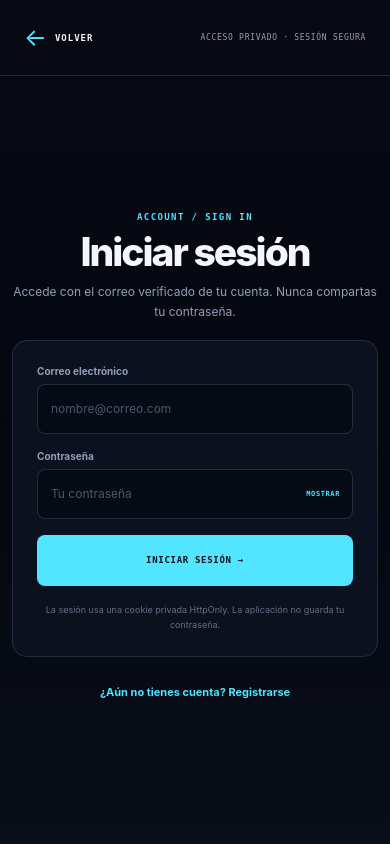
Scenario: LoginForm › muestra un error genérico de credenciales
Type "nadie@example.com" into the field named "Correo electrónico" at (195, 408), box top-left (37, 384), bottom-right (353, 434)
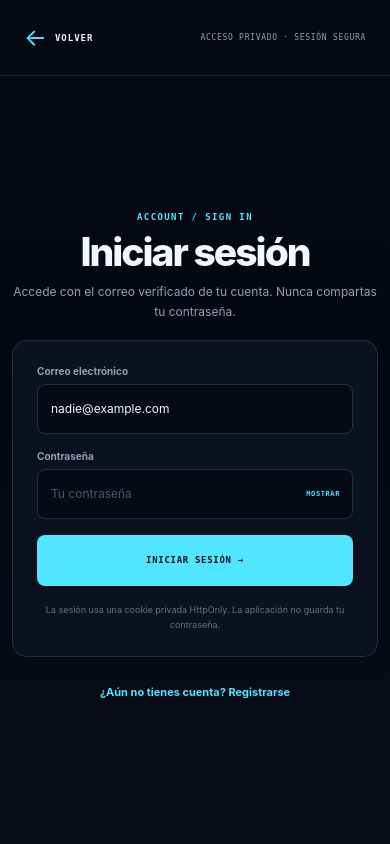
Type "incorrecta" into the password field labelled "contraseña" at (166, 494), box top-left (38, 486), bottom-right (294, 501)
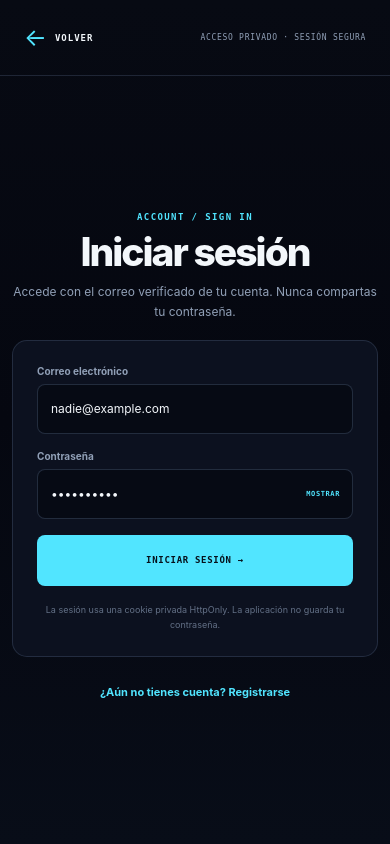
Click the button "INICIAR SESIÓN →" at (195, 560), box top-left (37, 534), bottom-right (353, 586)
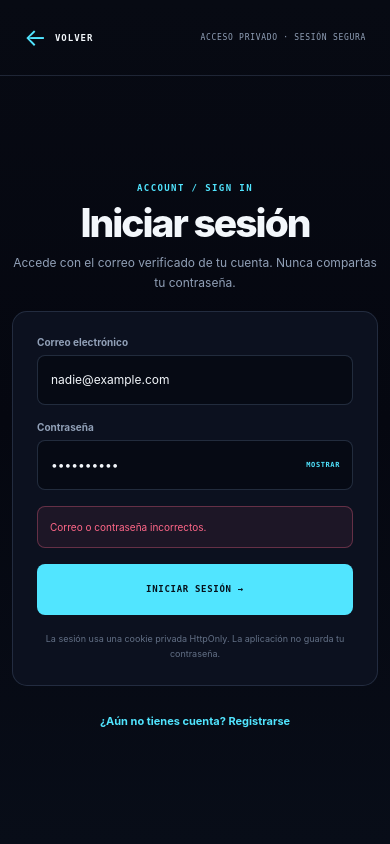
Now the text "Correo o contraseña incorrectos." is shown, box top-left (37, 506), bottom-right (353, 548)
